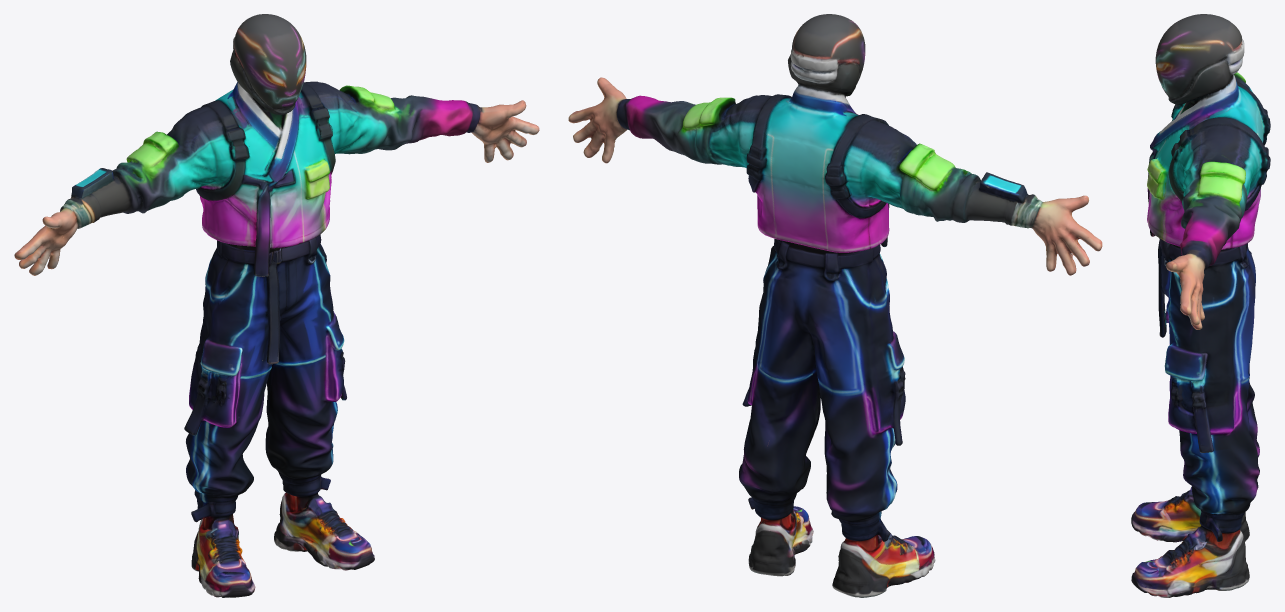
The model's file is Player_Base.fbx.
3 views of the same model, side by side, from view 1: azimuth 30°, elevation 25°; view 2: azimuth 150°, elevation 25°; view 3: azimuth 270°, elevation 25° (orthographic).
Visible parts, largest first — view 1: Mesh_0; view 2: Mesh_0; view 3: Mesh_0.
Boxes of the visible parts, x1,y1,x2,y2 form: Mesh_0: (14, 14, 539, 597); Mesh_0: (568, 14, 1102, 597); Mesh_0: (1131, 14, 1270, 597).
Size of the model in its own units: 181 by 180 by 41.85.
1 material, 1 textured.
